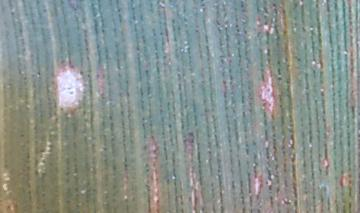tarspot: (281, 197, 293, 207), (66, 85, 76, 96), (185, 130, 195, 138), (199, 1, 204, 4)
